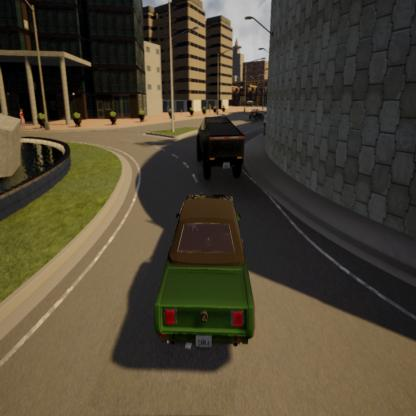Cars: (151, 192, 261, 364), (187, 99, 254, 184)
